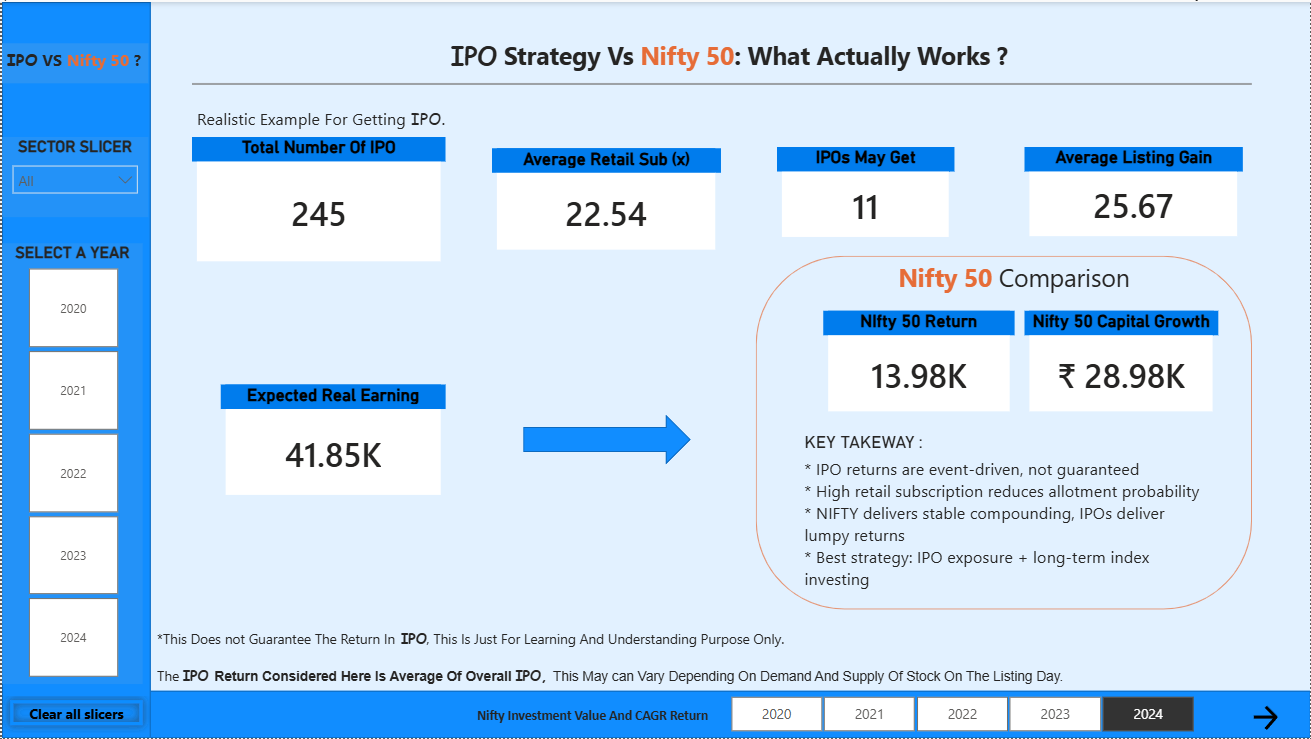

The dashboard page shown, as its layout file describes it:
{"tool":"powerbi","page":{"name":"What Actually worked !","canvas":[1280,720],"ordinal":4},"visuals":[{"type":"shape","box":[124.7,673.8,1155.6,46.5],"z":0},{"type":"shape","box":[0,0,145.5,720.2],"z":1000},{"type":"slicer","title":"SELECT A YEAR","fields":{"Values":["Table 1 (data for analysis).YEAR▲▼"]},"box":[0,236.5,137.7,431.3],"z":2000},{"type":"actionButton","box":[0,675,145.5,40.4],"z":3000},{"type":"actionButton","box":[1214.3,679.6,45.2,40.4],"z":4000},{"type":"textbox","box":[0,40.4,143.1,39.1],"z":5000},{"type":"slicer","title":"SECTOR SLICER","fields":{"Values":["Table1.Standardized Sector▲▼"]},"box":[0,131.9,142.9,78.3],"z":6000},{"type":"shape","box":[185.4,39.8,1037.1,79.7],"z":7000},{"type":"cardVisual","title":"Average Retail Sub (x)","fields":{"Data":["Avg(Table 1 (data for analysis).RETAIL SUBS TIMES(X))"]},"box":[479.4,143.1,223.8,105.2],"z":8000},{"type":"cardVisual","title":"IPOs May Get ","fields":{"Data":["Nifty_Return_table.REALIPOCHANCE"]},"box":[758.2,141.8,173.6,94.2],"z":9000},{"type":"cardVisual","title":"Total Number Of IPO","fields":{"Data":["Nifty_Return_table.CountOfIPO"]},"box":[185.9,132.1,248.2,127.2],"z":10000},{"type":"textbox","box":[185.9,97.8,341.2,45.2],"z":11000},{"type":"cardVisual","title":"Average Listing Gain","fields":{"Data":["Parameter.avglistingGain_all"]},"box":[1000.3,141.8,214,92.9],"z":12000},{"type":"cardVisual","title":"Expected Real Earning","fields":{"Data":["Nifty_Return_table.PROFIT PER IPO"]},"box":[214,374.2,220.1,113.7],"z":13000},{"type":"shape","box":[509.9,403.5,163.9,48.9],"z":14000},{"type":"cardVisual","title":"Nifty 50 Capital Growth","fields":{"Data":["Nifty_Return_table.Nifty Investment Value"]},"box":[1000.3,302,189.5,103.9],"z":15000},{"type":"slicer","fields":{"Values":["Nifty_Return_table.Year"]},"box":[687.2,672.6,502.6,47.7],"z":16000},{"type":"cardVisual","title":"NIfty 50 Return ","fields":{"Data":["Nifty_Return_table.Nifty 50 return only"]},"box":[803.4,302,187.1,103.9],"z":17000},{"type":"textbox","box":[451.2,683.6,253.1,36.7],"z":18000},{"type":"shape","box":[737.4,248.2,485.5,346.1],"z":19000},{"type":"textbox","box":[720.2,248.2,539.3,50.1],"z":20000},{"type":"textbox","box":[146.7,609,1115.2,70.9],"z":21000},{"type":"textbox","box":[434.1,30.6,664,59.9],"z":22000},{"type":"textbox","title":"KEY TAKEWAY :","box":[780.2,420.7,402.3,188.3],"z":23000}]}

Visuals, with their boxes on the page's 1280x720 design canvas (x1, y1, x2, y2). These are canvas units, not pixel positions in the 1311x739 screenshot, which may show the page scaled, cropped or inside an application window:
shape: box=[125, 674, 1280, 720]
shape: box=[0, 0, 146, 720]
"SELECT A YEAR" slicer: box=[0, 236, 138, 668]
actionButton: box=[0, 675, 146, 715]
actionButton: box=[1214, 680, 1260, 720]
textbox: box=[0, 40, 143, 80]
"SECTOR SLICER" slicer: box=[0, 132, 143, 210]
shape: box=[185, 40, 1222, 120]
"Average Retail Sub (x)" cardVisual: box=[479, 143, 703, 248]
"IPOs May Get " cardVisual: box=[758, 142, 932, 236]
"Total Number Of IPO" cardVisual: box=[186, 132, 434, 259]
textbox: box=[186, 98, 527, 143]
"Average Listing Gain" cardVisual: box=[1000, 142, 1214, 235]
"Expected Real Earning" cardVisual: box=[214, 374, 434, 488]
shape: box=[510, 404, 674, 452]
"Nifty 50 Capital Growth" cardVisual: box=[1000, 302, 1190, 406]
slicer - Nifty_Return_table.Year: box=[687, 673, 1190, 720]
"NIfty 50 Return " cardVisual: box=[803, 302, 990, 406]
textbox: box=[451, 684, 704, 720]
shape: box=[737, 248, 1223, 594]
textbox: box=[720, 248, 1260, 298]
textbox: box=[147, 609, 1262, 680]
textbox: box=[434, 31, 1098, 90]
"KEY TAKEWAY :" textbox: box=[780, 421, 1182, 609]
